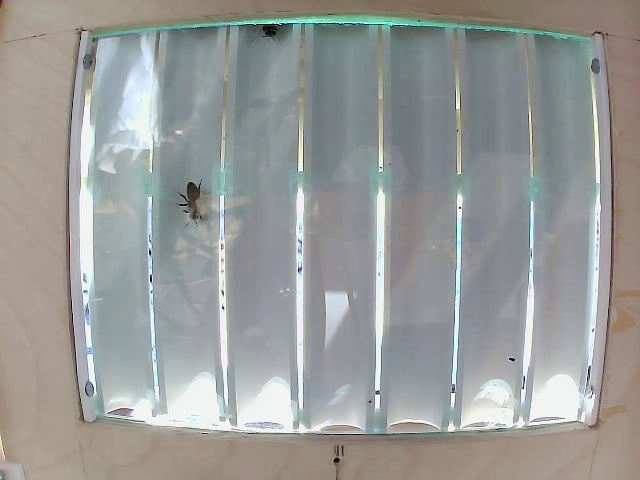bee: (174, 182, 214, 230)
